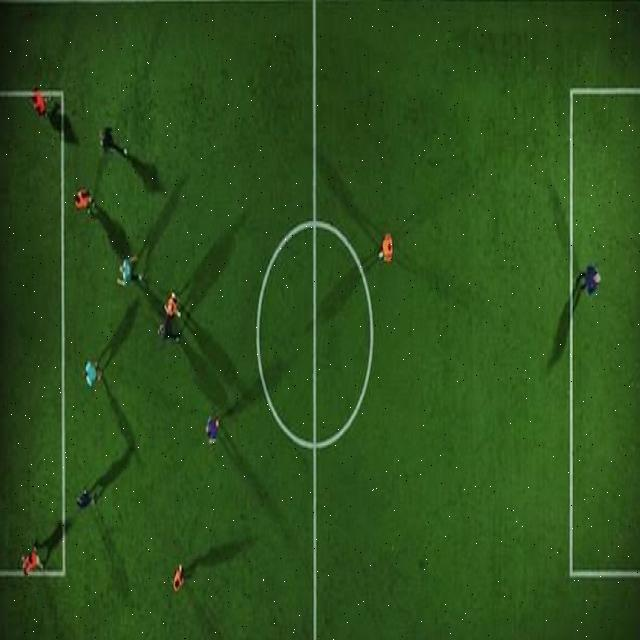humans: (98, 118, 132, 162), (162, 286, 184, 348), (117, 244, 143, 296), (18, 539, 46, 583), (74, 476, 103, 515), (73, 182, 104, 218), (576, 263, 602, 300), (28, 87, 59, 117), (80, 356, 104, 391), (204, 408, 223, 446), (377, 230, 395, 268), (170, 556, 186, 596)
